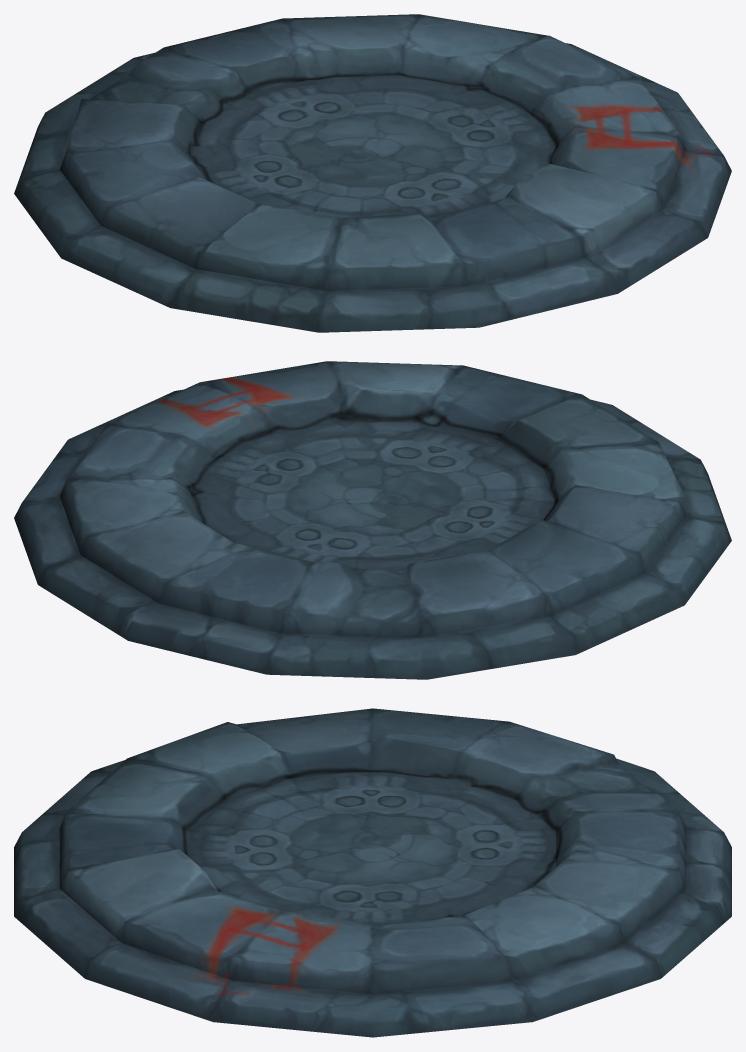
Rendered from crypthole.glb.
3 views of the same model, one above another, from view 1: azimuth 30°, elevation 25°; view 2: azimuth 150°, elevation 25°; view 3: azimuth 270°, elevation 25° (orthographic). The views are drawn at different scales.
Parts seen in each view (by area): view 1: plinth_circular_01_plinth_mat_0; view 2: plinth_circular_01_plinth_mat_0; view 3: plinth_circular_01_plinth_mat_0.
Boxes of the visible parts, x1,y1,x2,y2 form: plinth_circular_01_plinth_mat_0: (14, 14, 731, 332); plinth_circular_01_plinth_mat_0: (14, 361, 731, 679); plinth_circular_01_plinth_mat_0: (14, 708, 731, 1037).
Size of the model in its own units: 13.18 by 1.14 by 12.85.
1 material, 1 textured.
